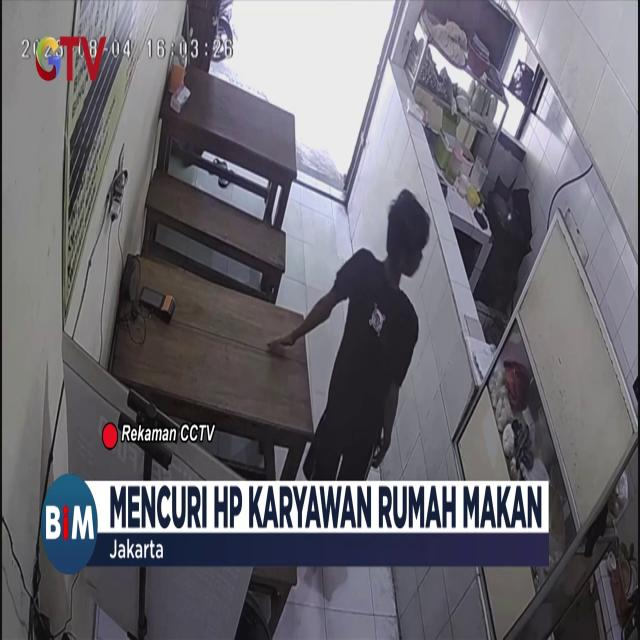pencurian: (274, 188, 430, 487)
